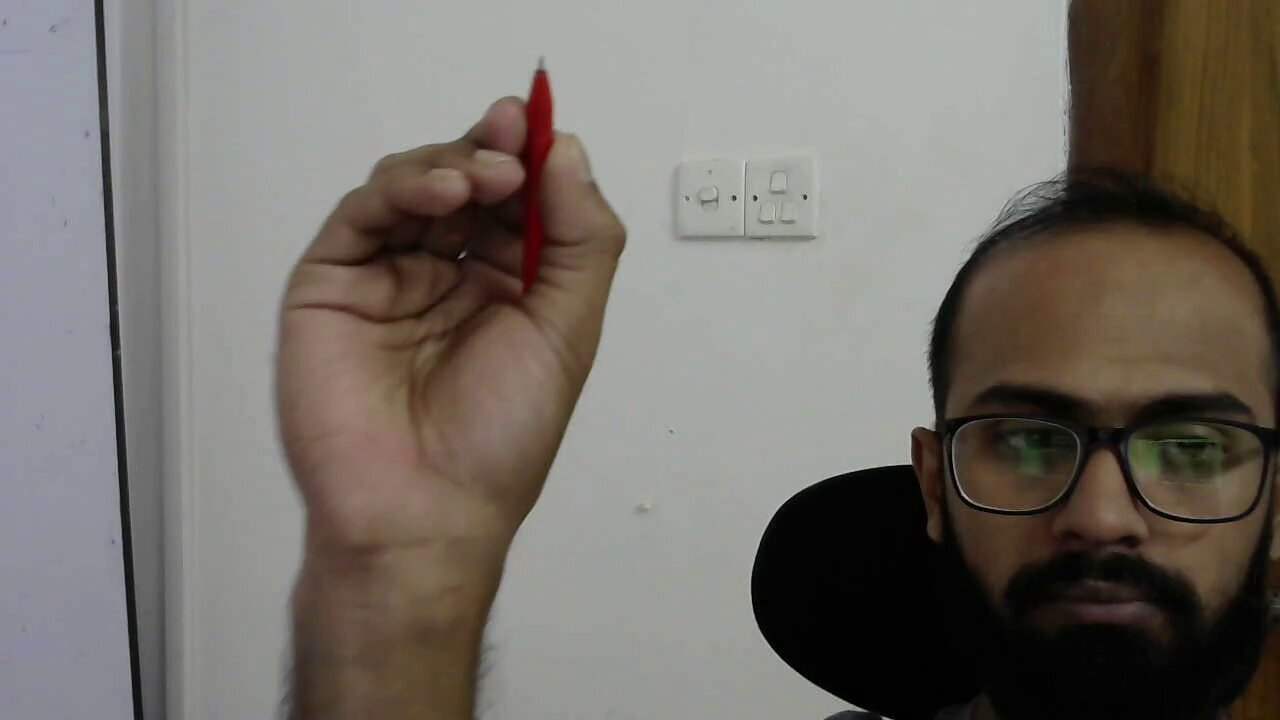pointer: (281, 95, 628, 449)
